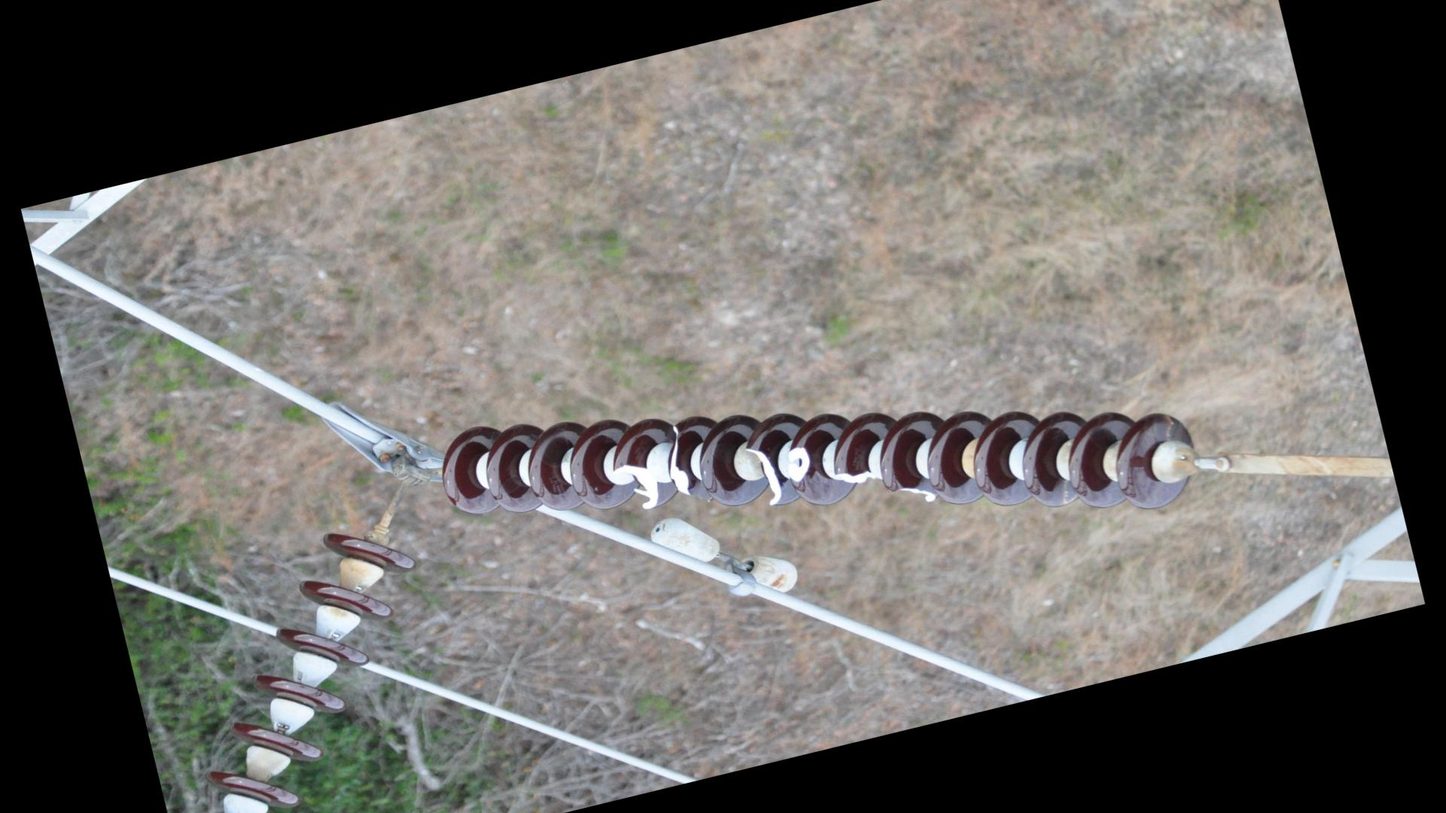damper: (642, 487, 805, 626)
